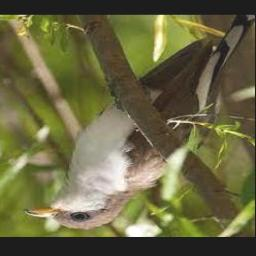Cuckoo: (23, 16, 254, 230)
